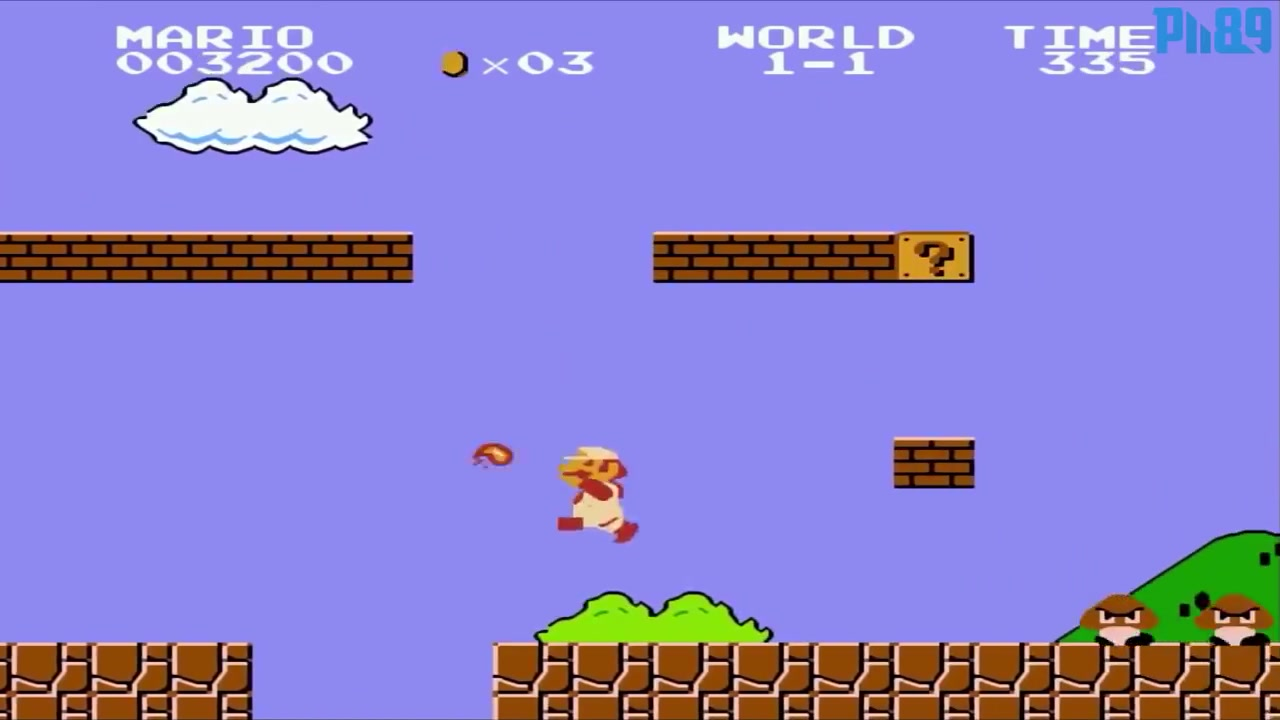mario: (548, 437, 642, 552)
